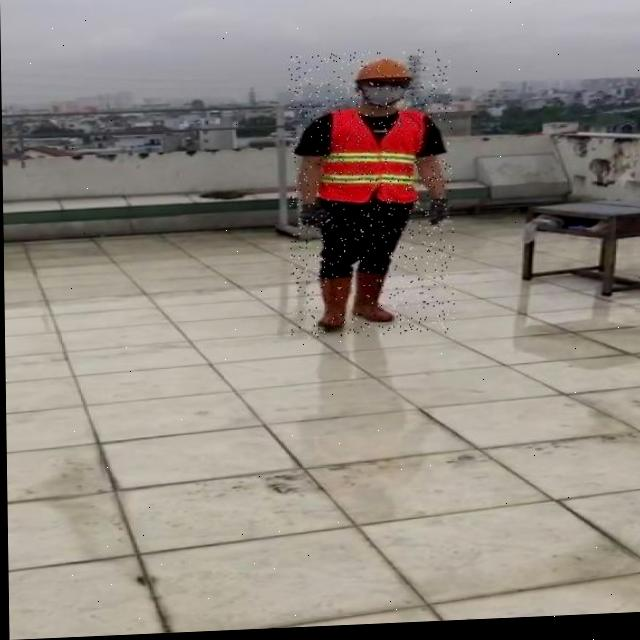Gloves: (297, 202, 327, 231), (427, 200, 447, 228)
Helmet: (353, 60, 413, 111)
Safety-Boot: (350, 271, 393, 326), (316, 275, 351, 333)
Safety-Vest: (314, 108, 430, 211)
